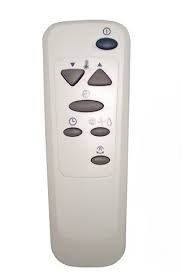remote control: (42, 17, 132, 268)
